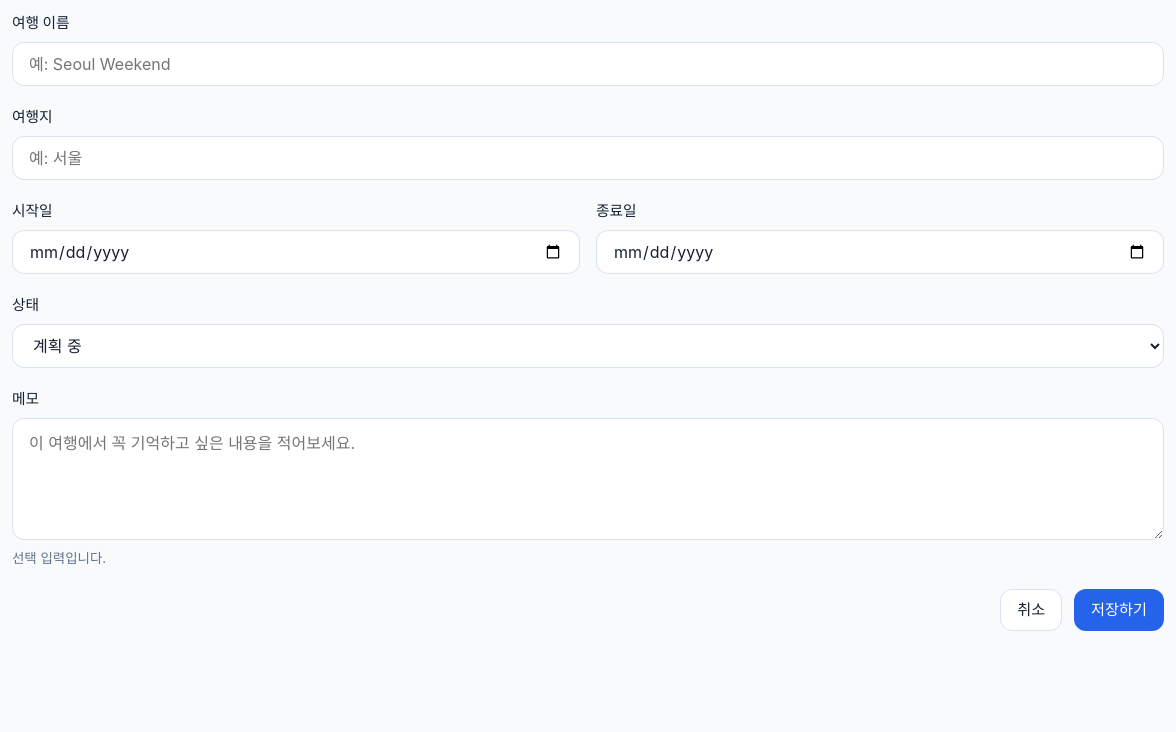
Test: TripForm › shows Korean validation and blocks submit when title is empty
The width and height of the screenshot is (1176, 732).
Type "서울" into the field with test id "trip-destination-input".
click(588, 158); type("서울")  # box left=12, top=136, right=1164, bottom=180
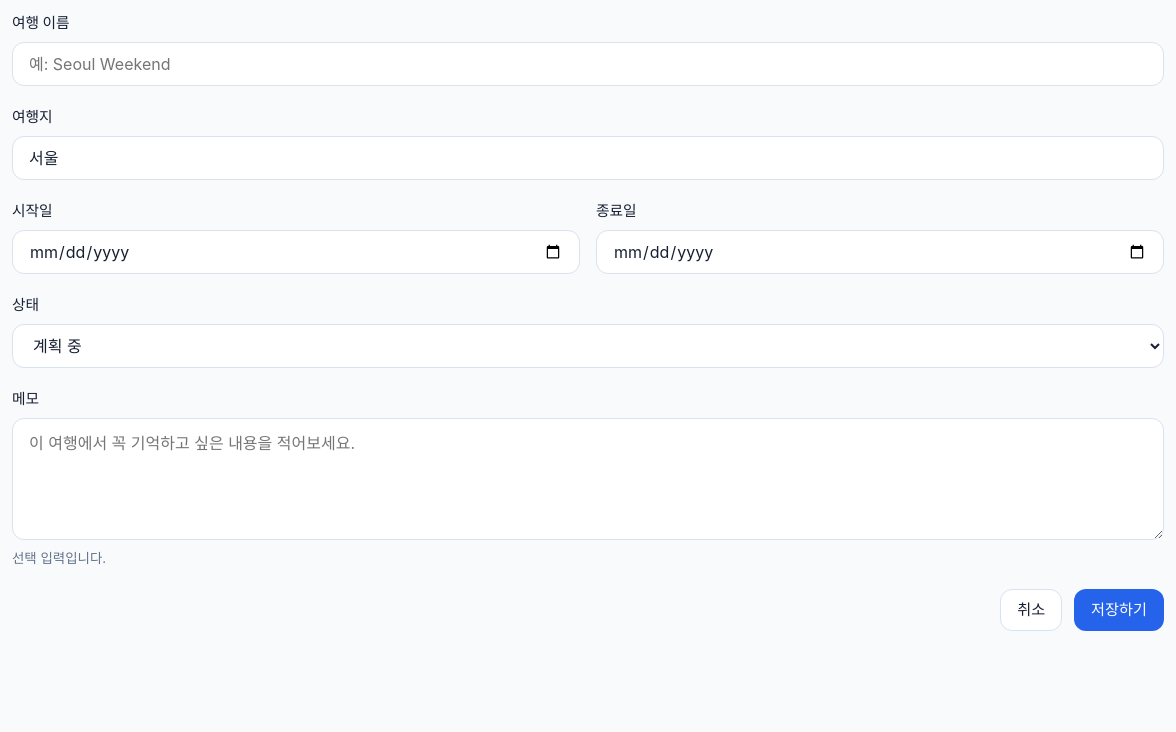
Type "2026-06-10" into the date field with test id "trip-start-date-input".
click(296, 252); type("2026-06-10")  # box left=12, top=230, right=580, bottom=274
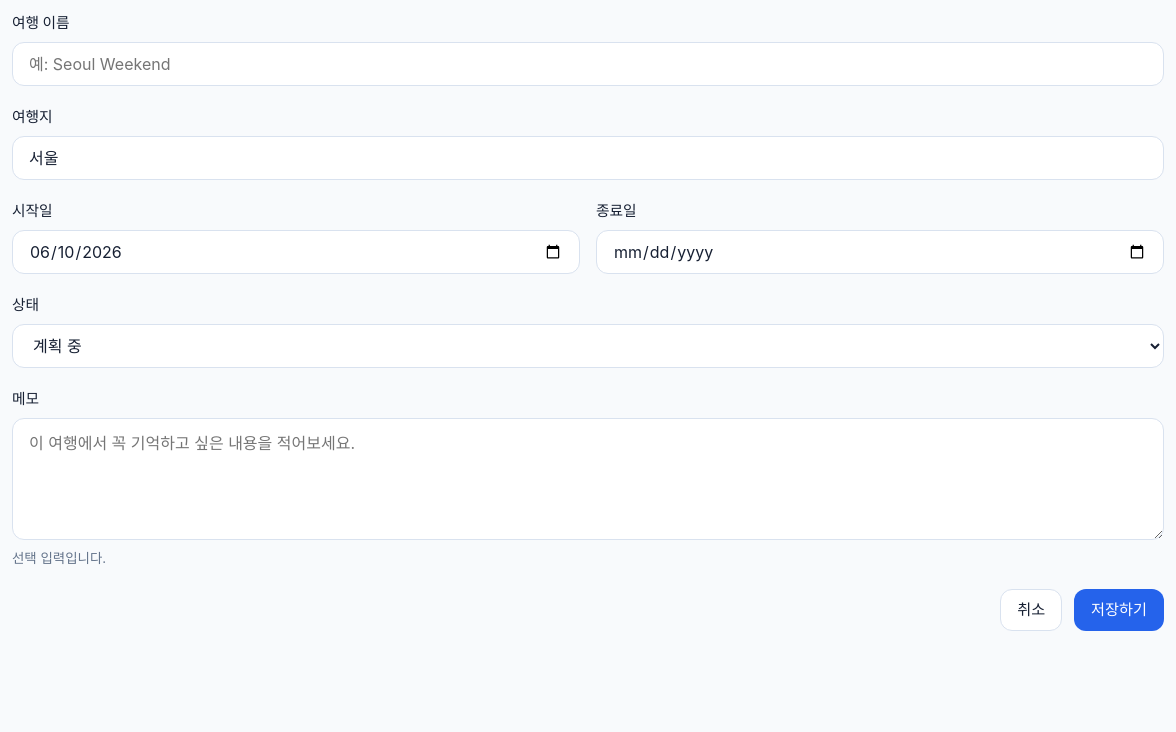
Type "2026-06-12" into the date field with test id "trip-end-date-input".
click(880, 252); type("2026-06-12")  # box left=596, top=230, right=1164, bottom=274
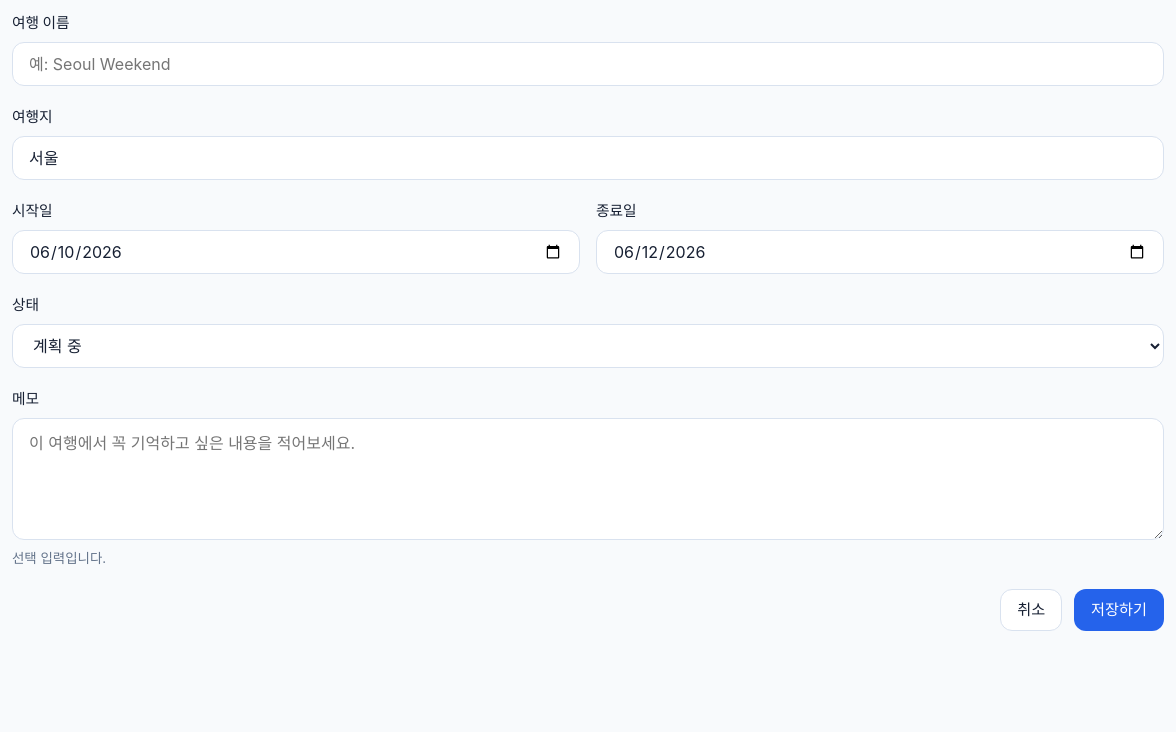
Submit the form
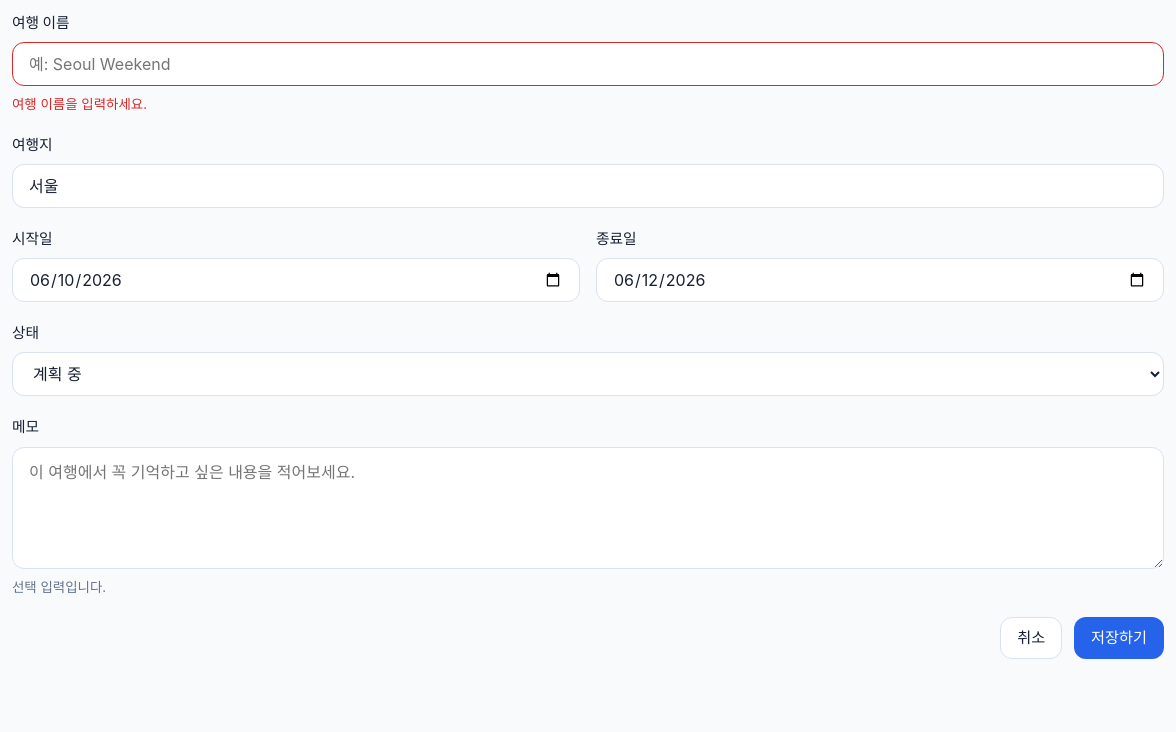
Expected: the form shows "여행 이름을 입력하세요.", left=12, top=96, right=147, bottom=112
